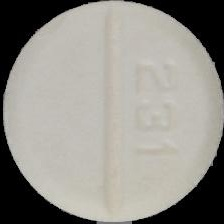55154-5455: (0, 0, 224, 224)
